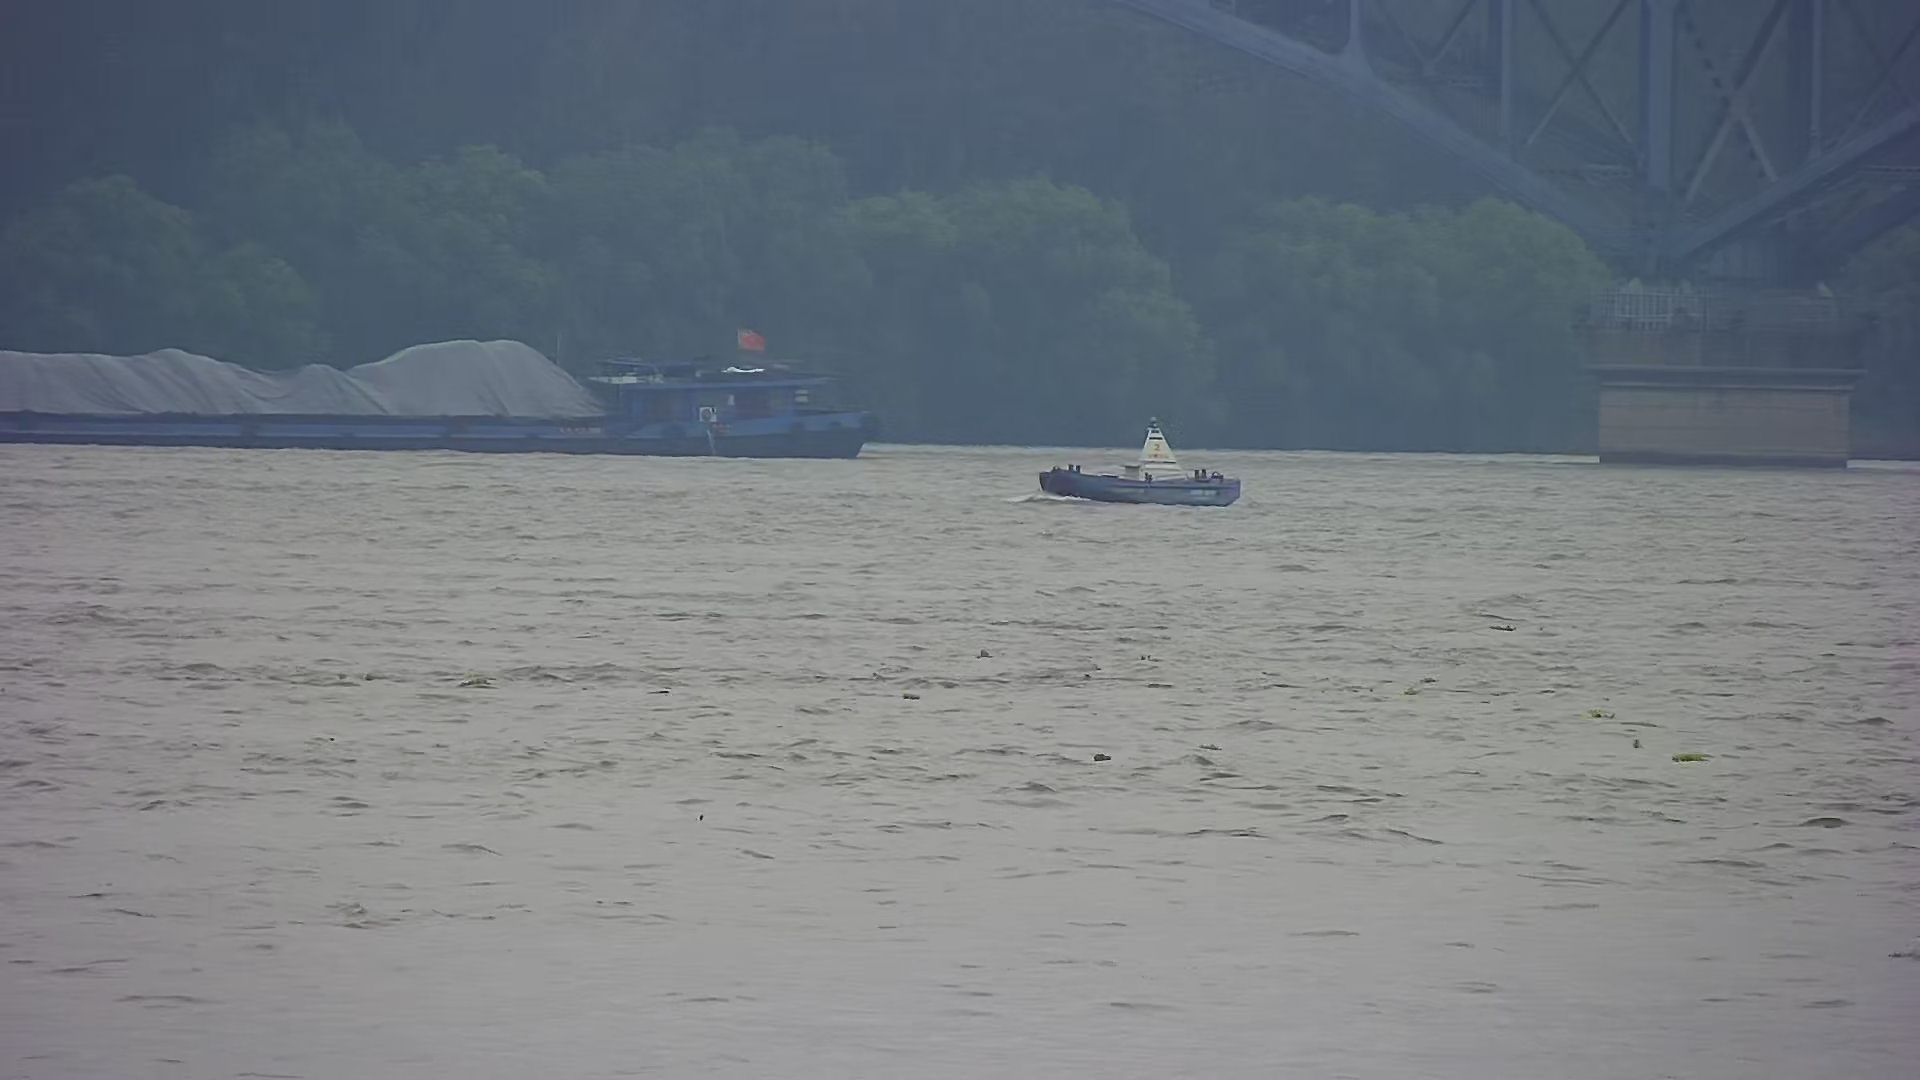boat: (1025, 400, 1261, 517)
bridge: (1112, 1, 1917, 463)
ship: (1, 310, 906, 473)
